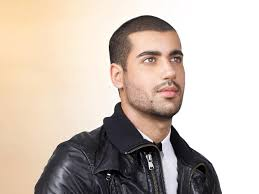middle_eastern_male: (115, 19, 192, 123)
